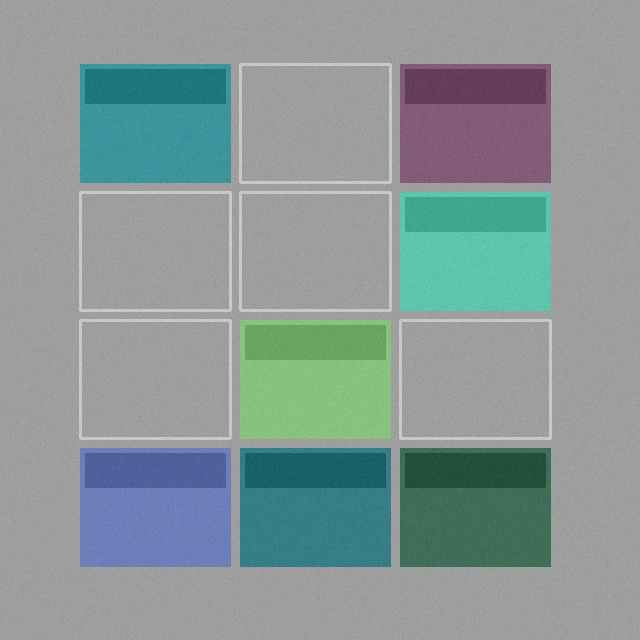space-empty: (240, 64, 390, 182), (80, 192, 230, 310), (240, 192, 390, 310), (80, 320, 230, 438), (400, 320, 550, 438)
space-occupied: (80, 64, 230, 182), (400, 64, 550, 182), (400, 192, 550, 310), (240, 320, 390, 438), (80, 448, 230, 566), (240, 448, 390, 566), (400, 448, 550, 566)
